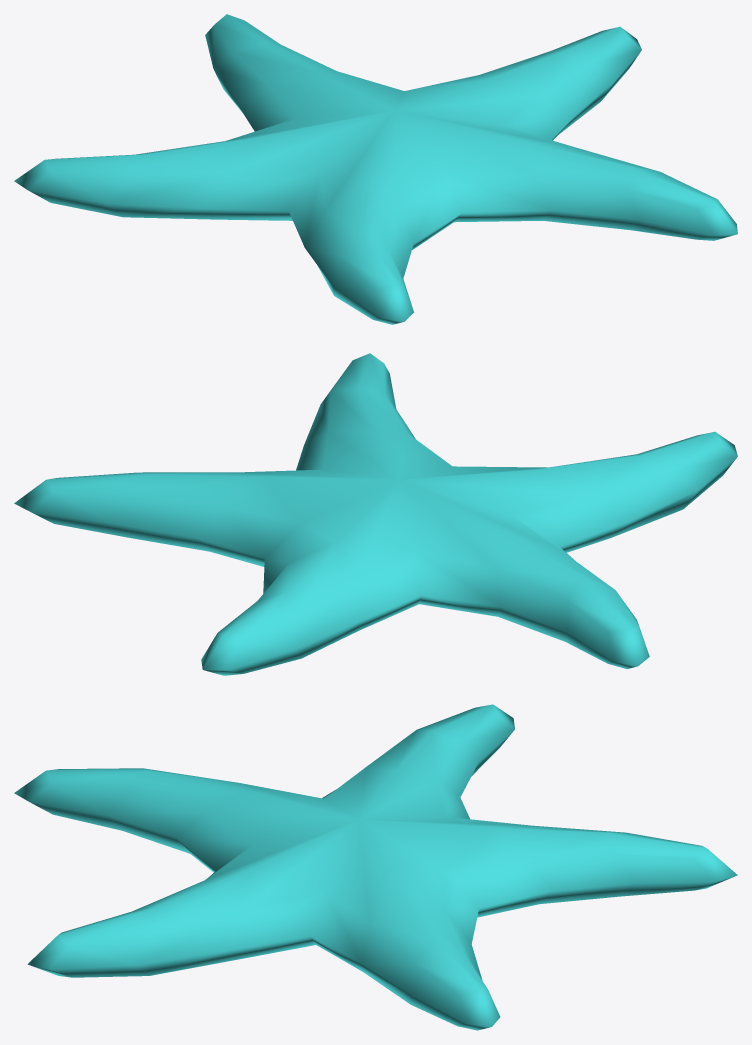
File: StarfishA.fbx
3 views of the same model, one above another, from view 1: azimuth 30°, elevation 25°; view 2: azimuth 150°, elevation 25°; view 3: azimuth 270°, elevation 25° (orthographic). The views are drawn at different scales.
Visible parts, largest first — view 1: StarfishA; view 2: StarfishA; view 3: StarfishA.
Boxes of the visible parts, <box> form: StarfishA: <box>14,14,737,324</box>; StarfishA: <box>14,353,737,675</box>; StarfishA: <box>14,704,737,1030</box>.
Size of the model in its own units: 29.89 by 3.34 by 29.62.
1 material, 1 textured.
